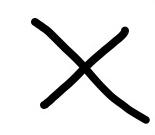mult: (30, 17, 148, 123)
